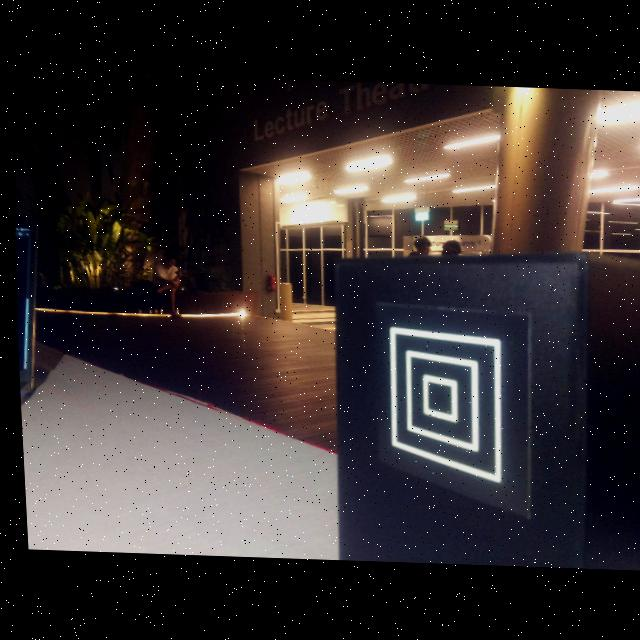BULLSEYE: (386, 327, 498, 483)
